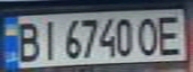0: (115, 15, 136, 57)
4: (97, 15, 118, 58)
6: (60, 16, 81, 60)
7: (78, 16, 100, 60)
B: (9, 18, 42, 63)
E: (154, 12, 187, 56)
I: (36, 17, 60, 61)
O: (136, 14, 163, 57)
